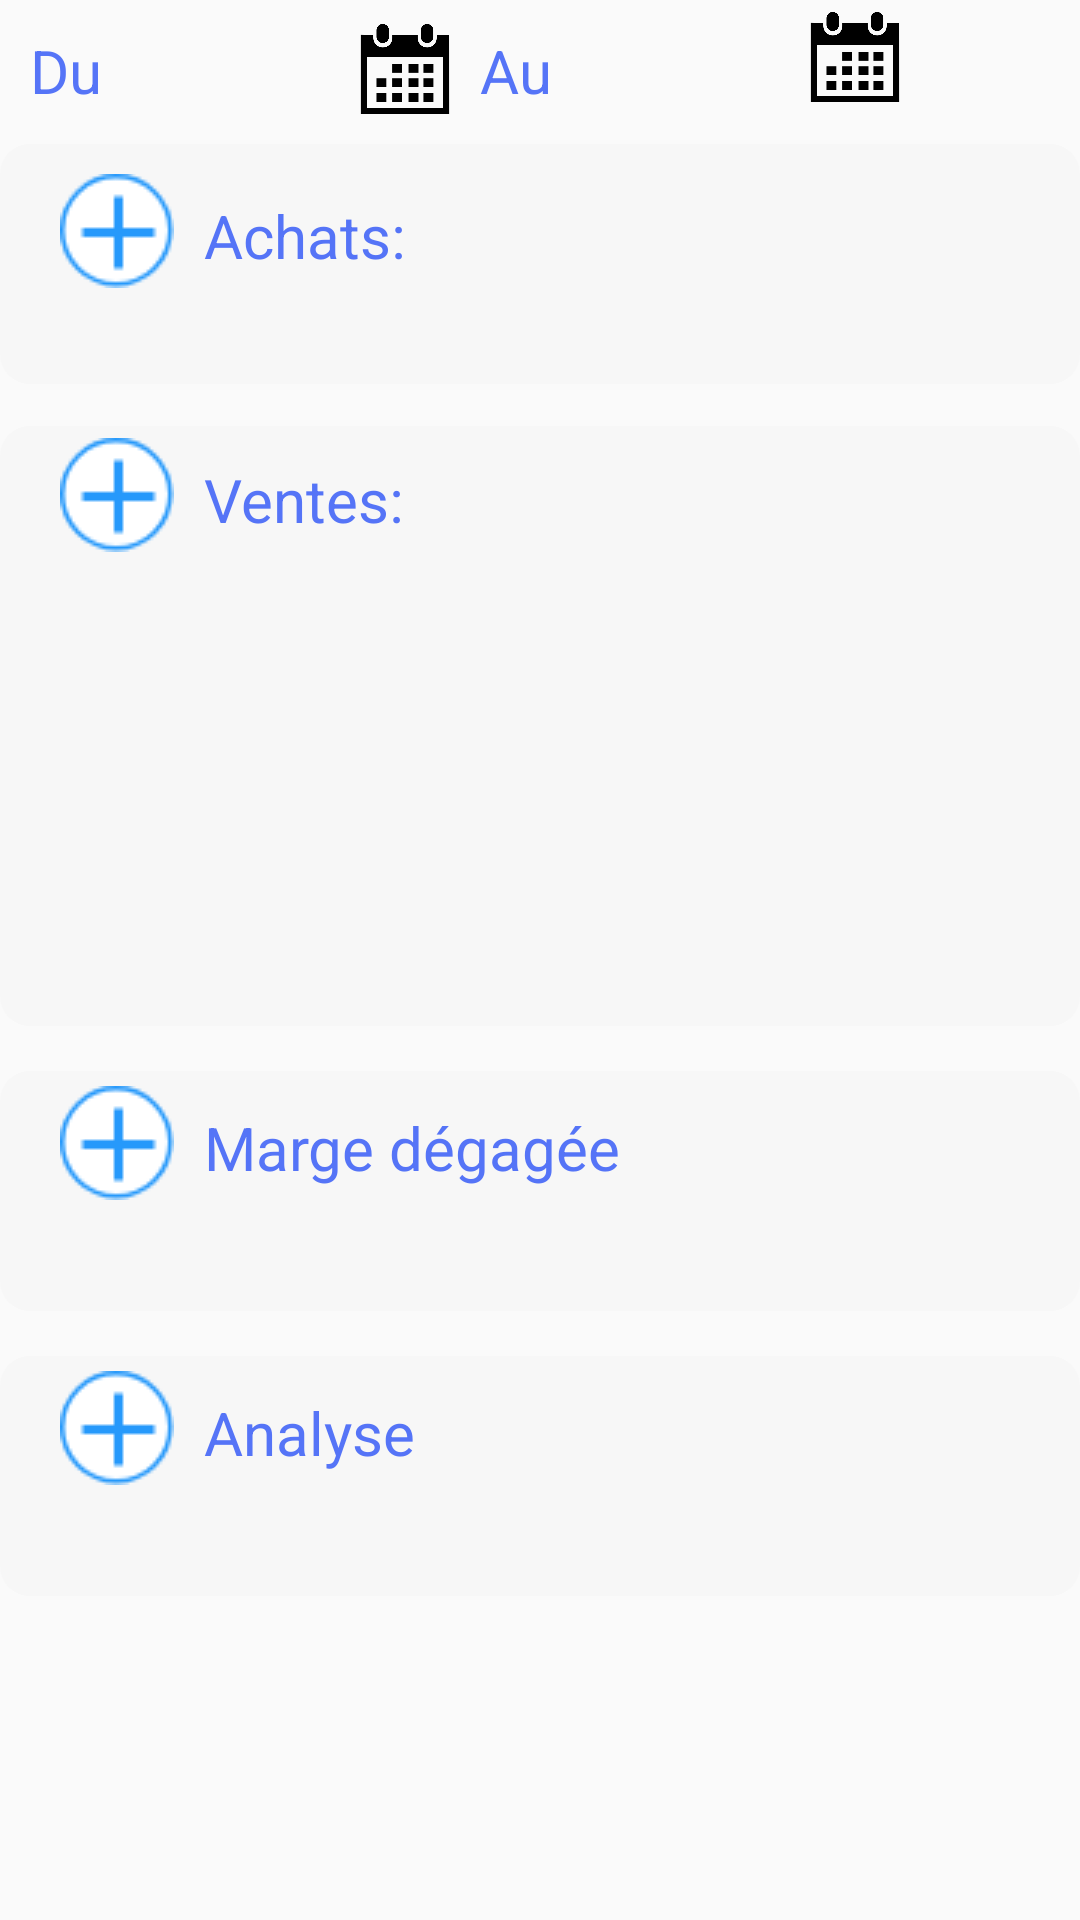

Screen size 1080 × 1920. Icon name, then its box in pixels as (x1=x1, y1=y1, x2=x2, y2=y2):
date: (x1=811, y1=12, x2=899, y2=102), (x1=361, y1=24, x2=449, y2=114)
